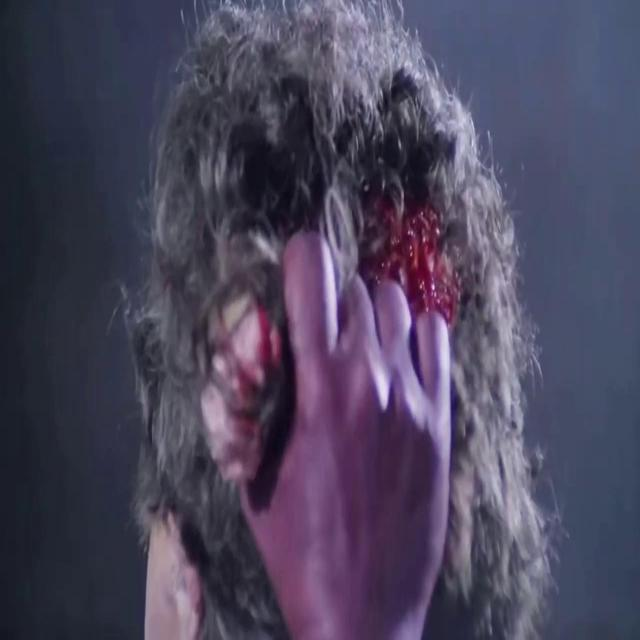flood: (183, 290, 304, 503), (343, 174, 476, 331)
